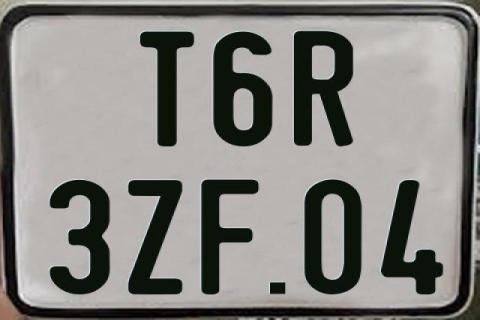0: (381, 179, 445, 297), (48, 178, 113, 294), (210, 31, 271, 150), (304, 180, 363, 298)
F: (198, 179, 261, 295)
R: (293, 29, 353, 148)
T: (137, 29, 193, 150)
Z: (125, 180, 181, 298)
